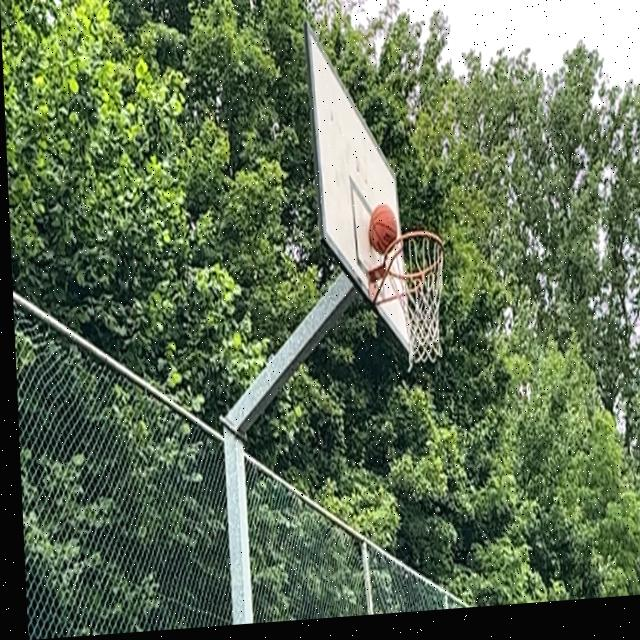rebound_hit: (366, 204, 398, 256)
